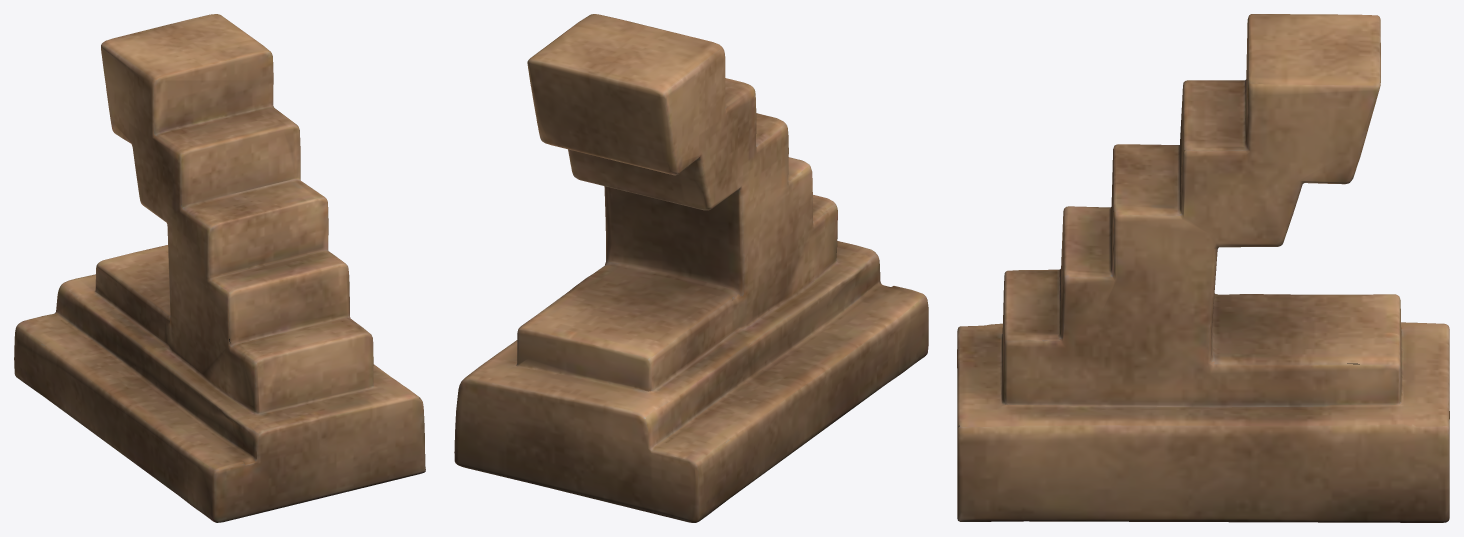
Rendered from sturdy-sandstone-straight-staircase-v002.glb.
The picture shows the model from 3 angles, left to right: view 1: azimuth 30°, elevation 25°; view 2: azimuth 150°, elevation 25°; view 3: azimuth 270°, elevation 25°; orthographic projection. The views are drawn at different scales.
Visible parts, largest first — view 1: sturdy-sandstone-straight-staircase; view 2: sturdy-sandstone-straight-staircase; view 3: sturdy-sandstone-straight-staircase.
Boxes of the visible parts, bbox=[...] form: sturdy-sandstone-straight-staircase: bbox=[14, 14, 425, 522]; sturdy-sandstone-straight-staircase: bbox=[454, 14, 928, 522]; sturdy-sandstone-straight-staircase: bbox=[957, 14, 1449, 522].
Bounding box in the file's own units: 0.96 × 1.48 × 1.56.
1 material, 1 textured.
